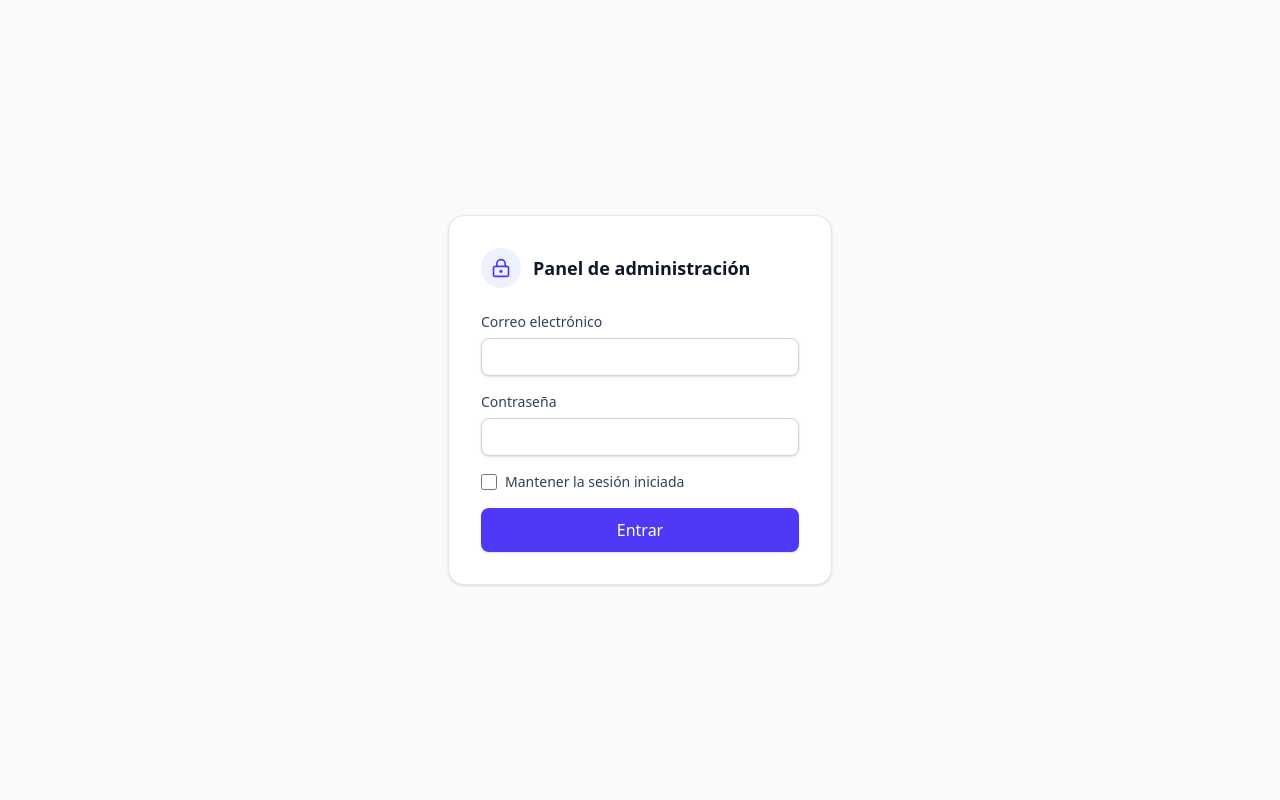
admin panel › ignores external returnTo values (open redirect)
In the field labelled "Correo electrónico": point(640, 357) [481,338,799,376], type "a@b.test"
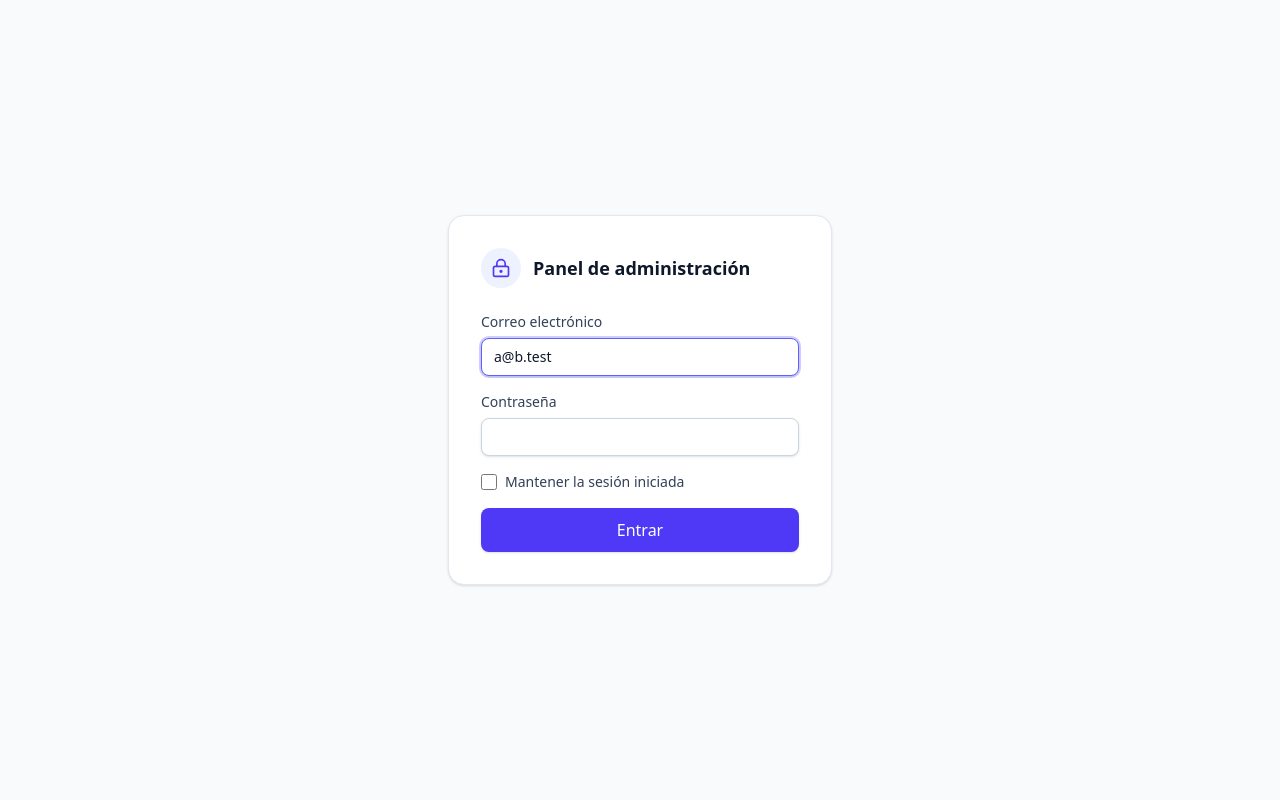
In the password field labelled "Contraseña": point(640, 437) [481,418,799,456], type "x"
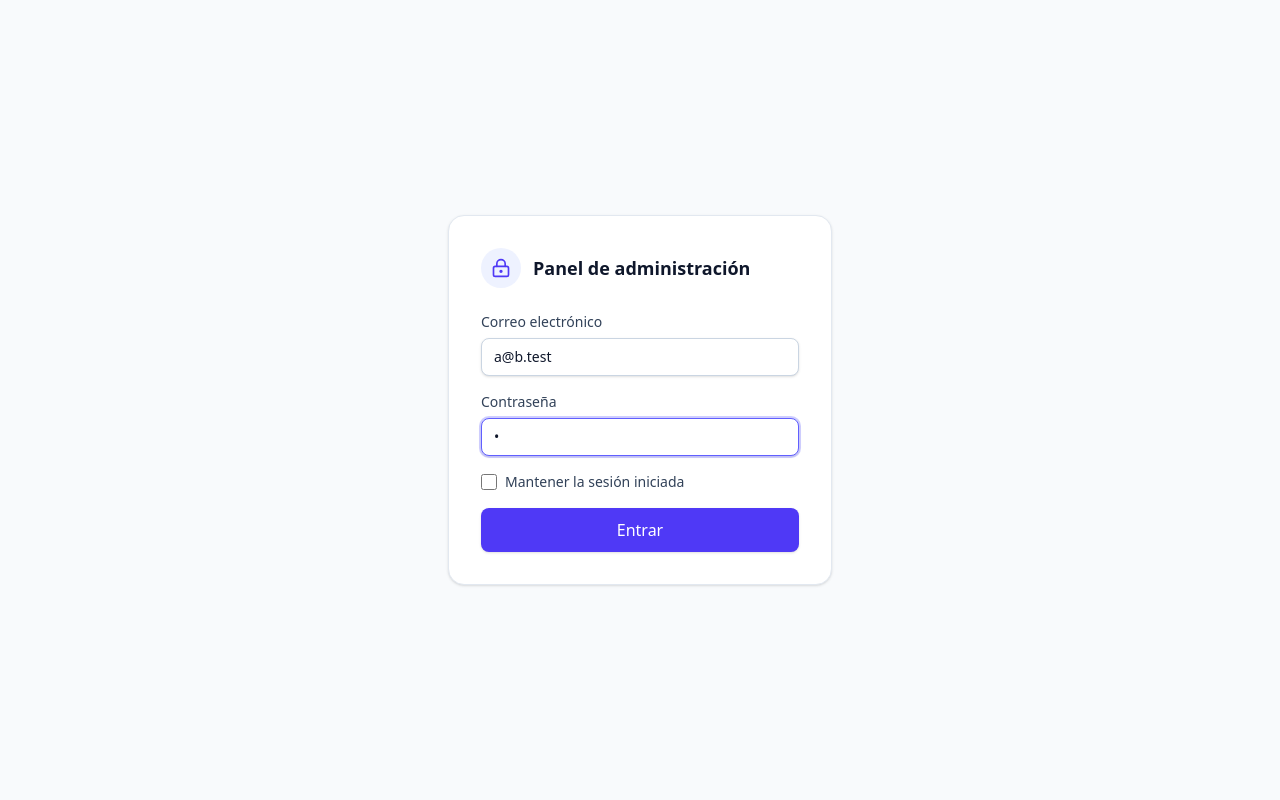
Click the button "Entrar": point(640, 530) [481,508,799,552]
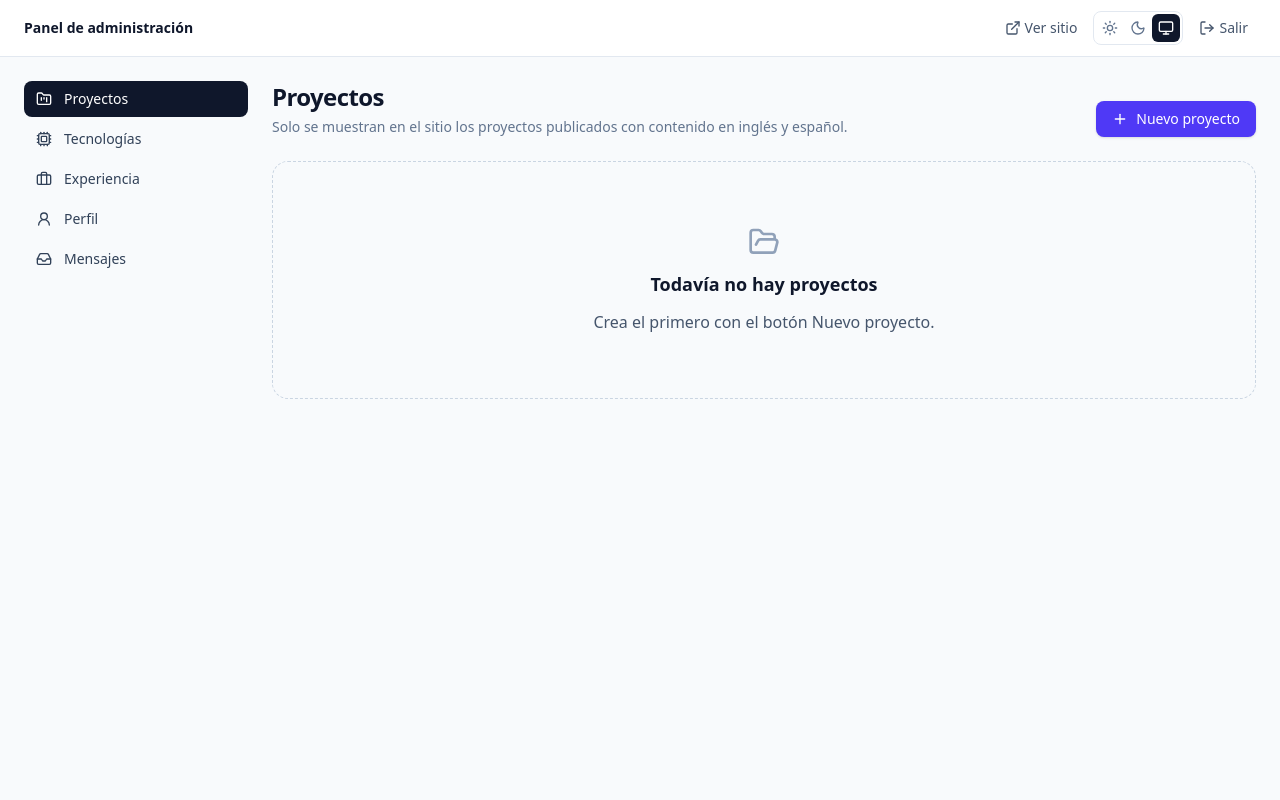
Expected: the button "Salir" is shown, [1192,12,1256,44]
